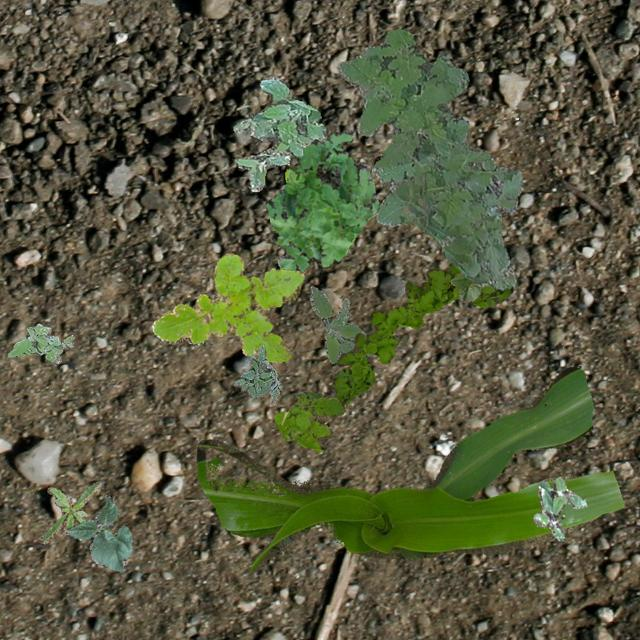crop: (195, 365, 622, 569), (65, 494, 132, 572), (450, 270, 480, 302)
weed: (336, 28, 522, 290), (332, 262, 512, 404), (150, 252, 304, 362), (266, 130, 378, 272), (232, 76, 326, 190), (308, 284, 372, 362), (274, 390, 342, 450), (39, 480, 100, 542), (532, 476, 586, 540), (232, 344, 280, 402), (6, 322, 74, 362)
